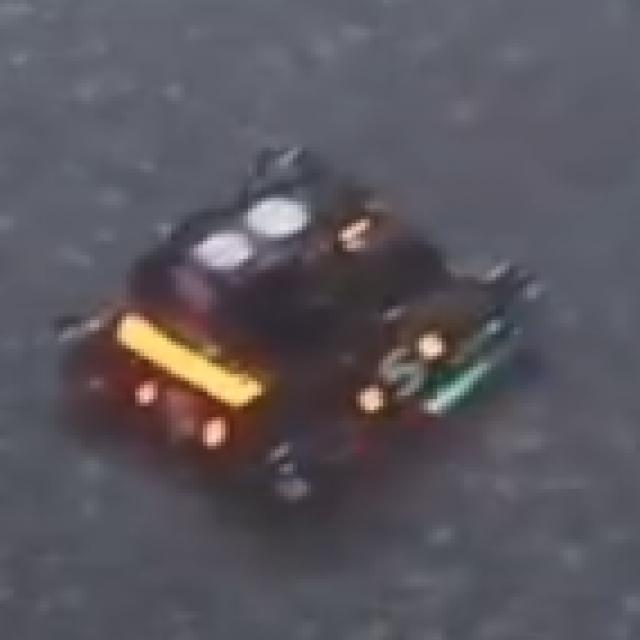R5: (361, 331, 442, 406)
